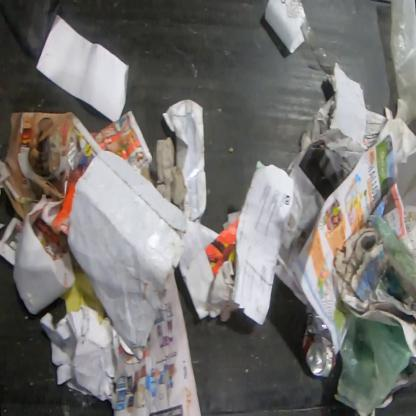cardboard: (66, 150, 188, 348), (39, 304, 142, 410), (1, 109, 75, 221), (299, 94, 394, 180), (161, 99, 207, 224), (188, 216, 239, 302), (322, 61, 366, 144), (154, 135, 186, 205)
metal: (300, 300, 338, 379)
rigid_plastic: (0, 0, 67, 61)
soft_plastic: (337, 314, 413, 416), (389, 0, 415, 127), (285, 0, 332, 68), (370, 211, 415, 282)
